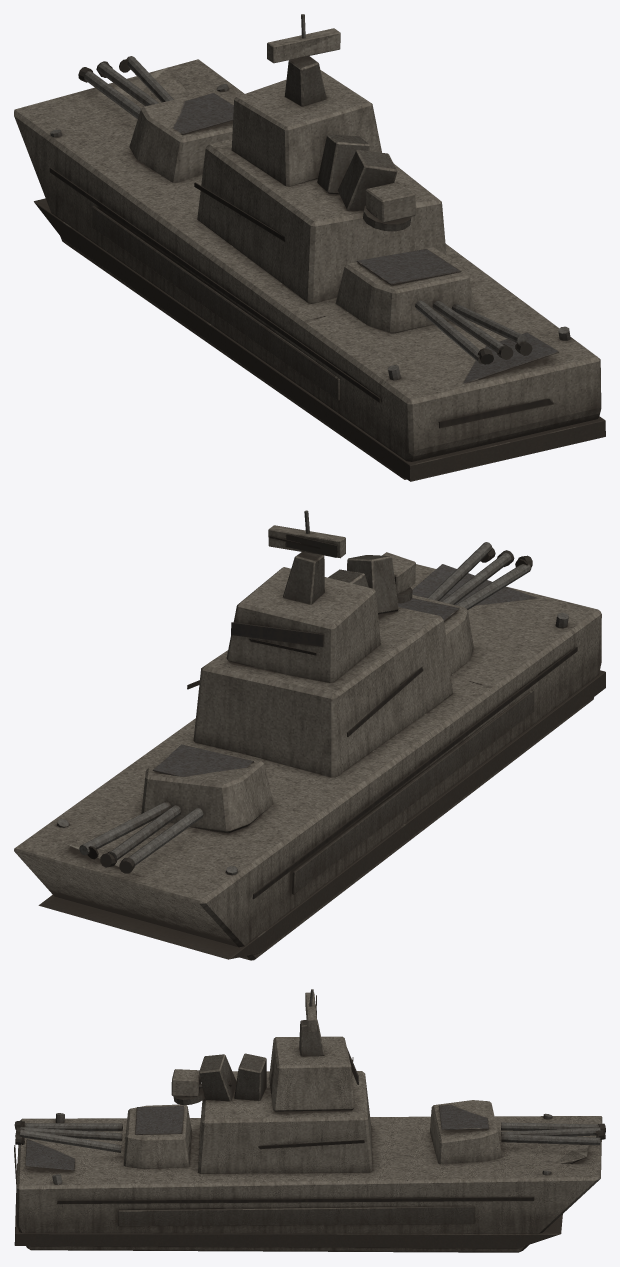
File: ord_dominion_wreck.fbx
3 renders of one model, top to bottom at view 1: azimuth 30°, elevation 25°; view 2: azimuth 150°, elevation 25°; view 3: azimuth 270°, elevation 25°, orthographic. The views are drawn at different scales.
Visible parts, largest first — view 1: base_bar, turret1_bar, turret2_bar, radar_bar; view 2: base_bar, turret1_bar, radar_bar, turret2_bar; view 3: base_bar, turret1_bar, turret2_bar, radar_bar.
Boxes of the visible parts, x1=… form: base_bar: x1=14, y1=14, x2=605, y2=481; turret1_bar: x1=78, y1=56, x2=233, y2=182; turret2_bar: x1=363, y1=182, x2=415, y2=231; radar_bar: x1=267, y1=28, x2=340, y2=63; base_bar: x1=14, y1=510, x2=605, y2=960; turret1_bar: x1=79, y1=744, x2=273, y2=873; radar_bar: x1=268, y1=525, x2=345, y2=558; turret2_bar: x1=382, y1=552, x2=415, y2=603; base_bar: x1=14, y1=989, x2=602, y2=1252; turret1_bar: x1=430, y1=1100, x2=605, y2=1164; turret2_bar: x1=171, y1=1069, x2=231, y2=1105; radar_bar: x1=305, y1=992, x2=316, y2=1032.
Size of the model in its own units: 871 by 1361 by 2965.
2 materials, 2 textured.
